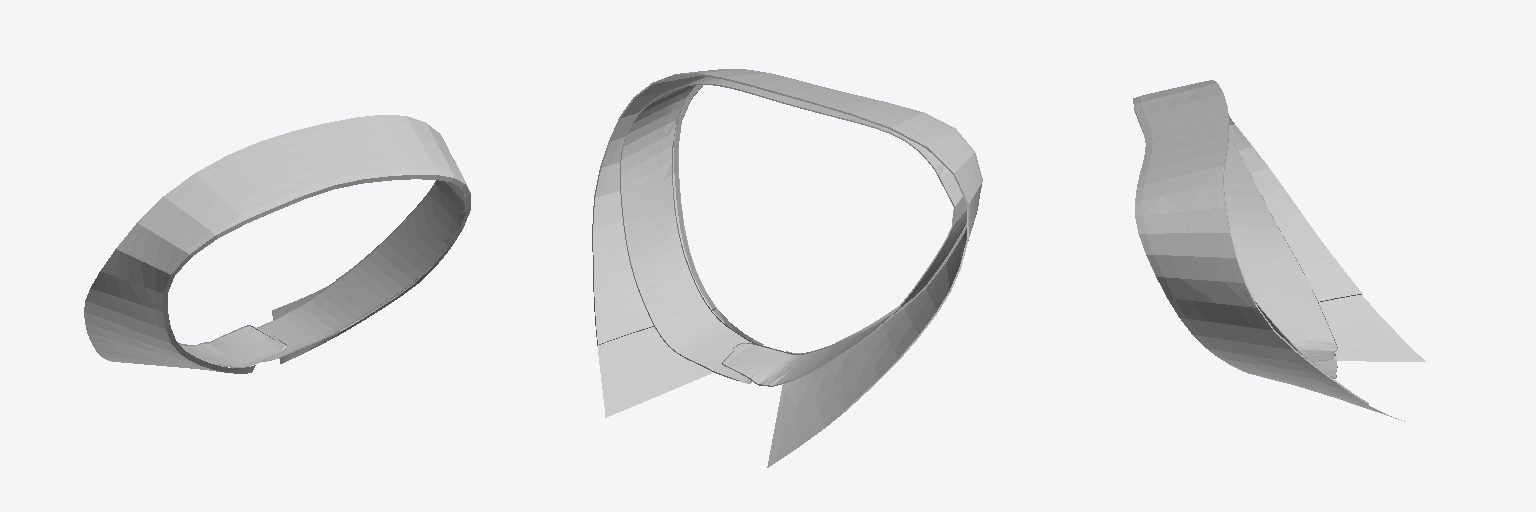
Rendered from mitre_BD.obj.
3 views of the same model, side by side, from view 1: azimuth 30°, elevation 25°; view 2: azimuth 150°, elevation 25°; view 3: azimuth 270°, elevation 25° (orthographic).
Parts seen in each view (by area): view 1: 23__mitre_bd, inner_collar_out, Object; view 2: 23__mitre_bd, inner_collar_out, Object; view 3: 23__mitre_bd, inner_collar_out, Object.
Boxes of the visible parts, x1=… form: 23__mitre_bd: x1=84, y1=115, x2=470, y2=369; inner_collar_out: x1=179, y1=180, x2=465, y2=367; Object: x1=96, y1=284, x2=341, y2=373; 23__mitre_bd: x1=592, y1=69, x2=982, y2=410; inner_collar_out: x1=620, y1=77, x2=966, y2=386; Object: x1=597, y1=308, x2=845, y2=467; 23__mitre_bd: x1=1133, y1=80, x2=1368, y2=404; inner_collar_out: x1=1224, y1=133, x2=1337, y2=378; Object: x1=1263, y1=295, x2=1425, y2=421.
Bounding box in the file's own units: 18 × 13.56 × 12.77.